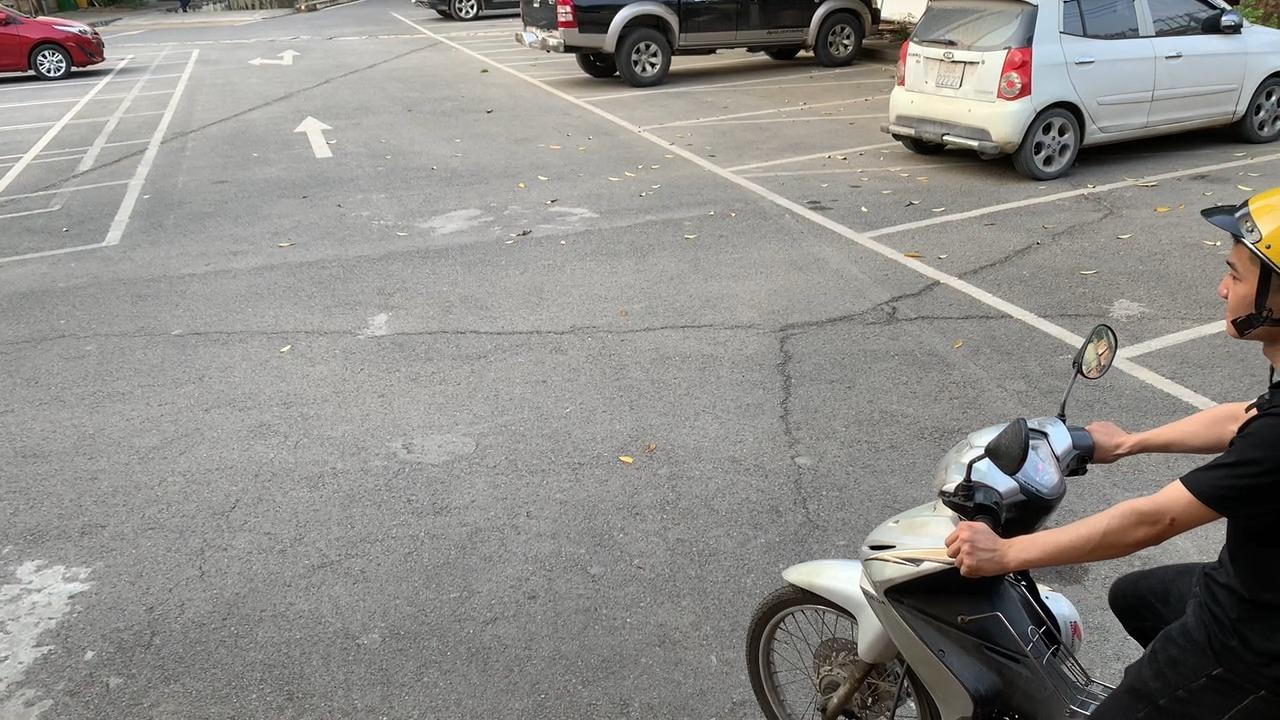helmet: (1200, 183, 1280, 277)
motorcyclist: (745, 182, 1280, 720)
